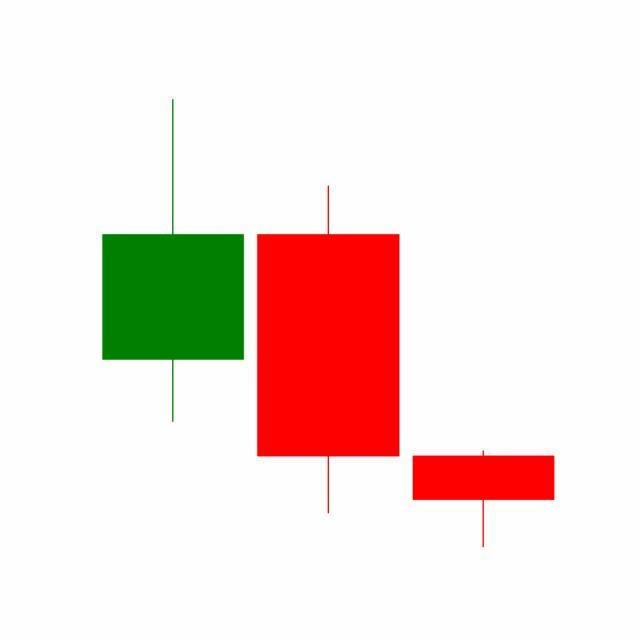Hammer: (406, 450, 562, 550)
